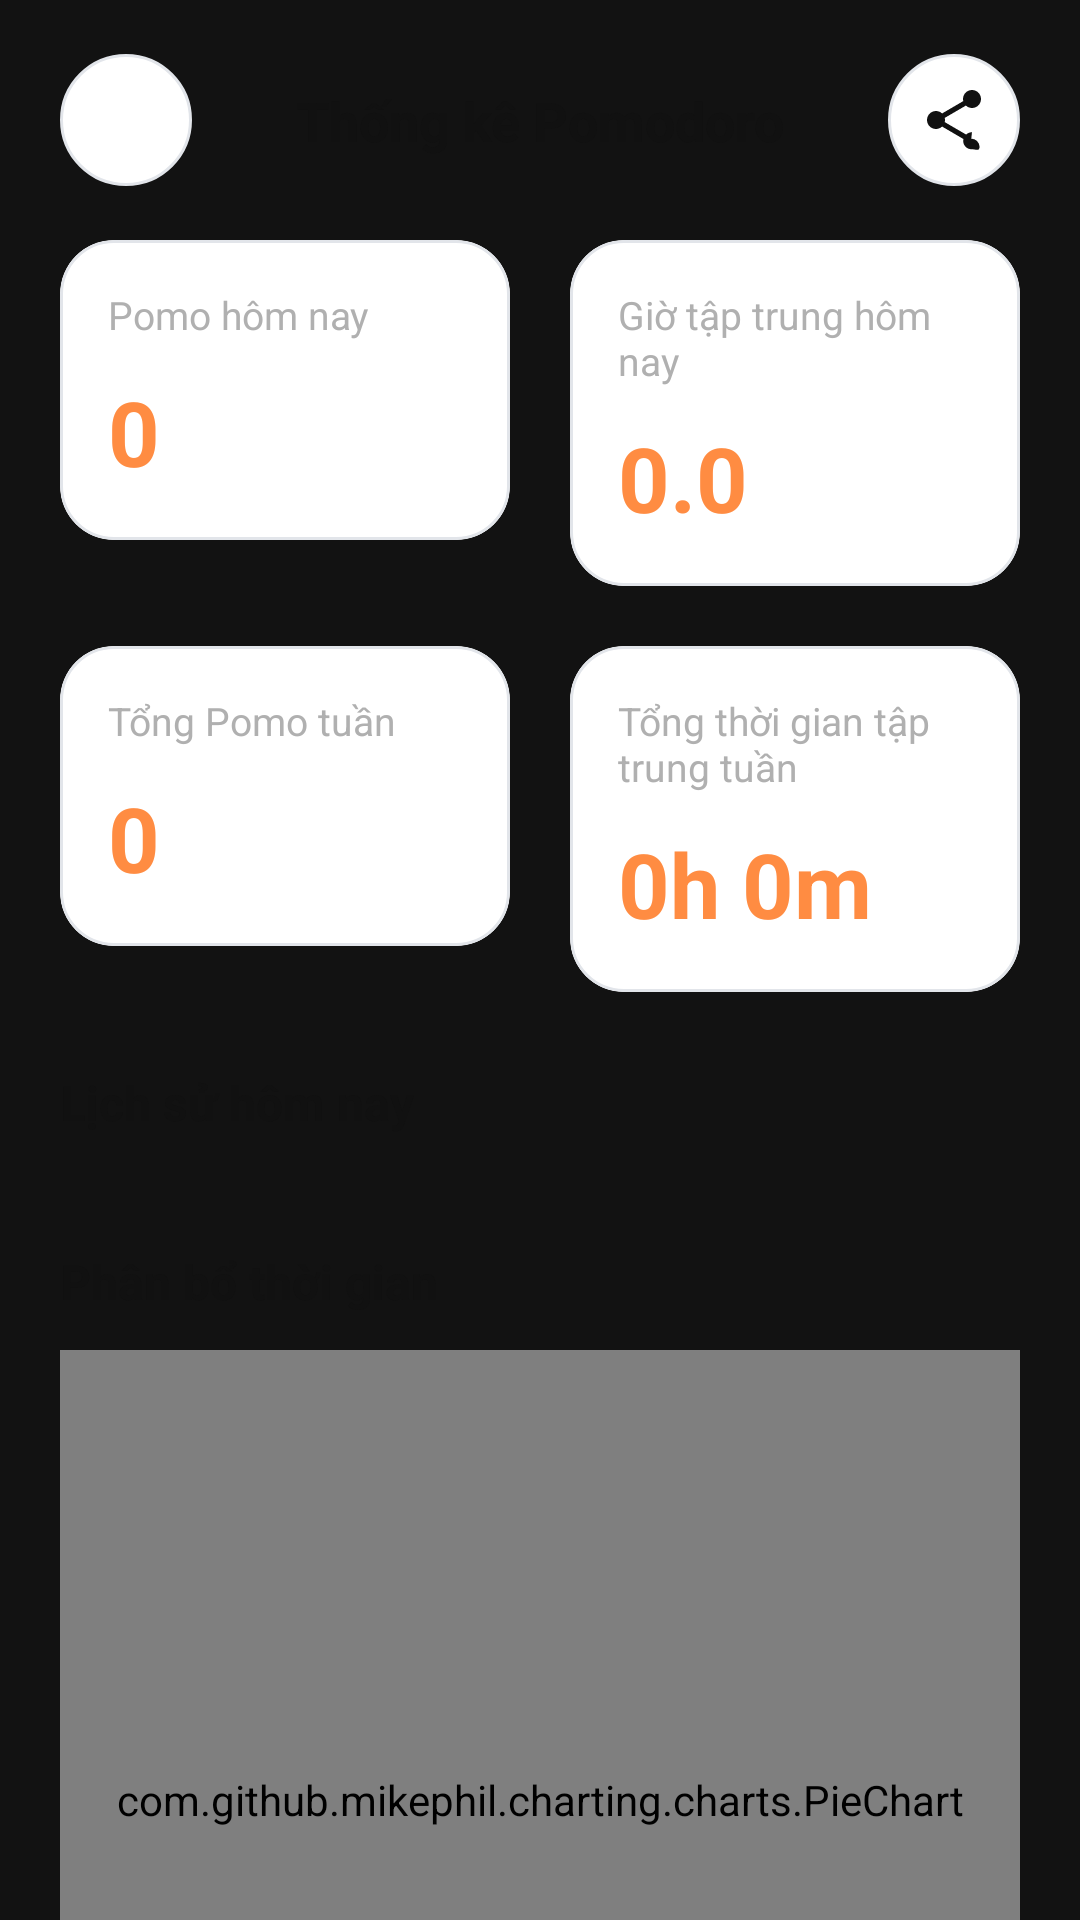

Locate icon controls on the screen. Image size 1080x1920, boxes as bbox(x1, y1, x2, y2).
Chia sẻ: bbox(888, 54, 1020, 186)
